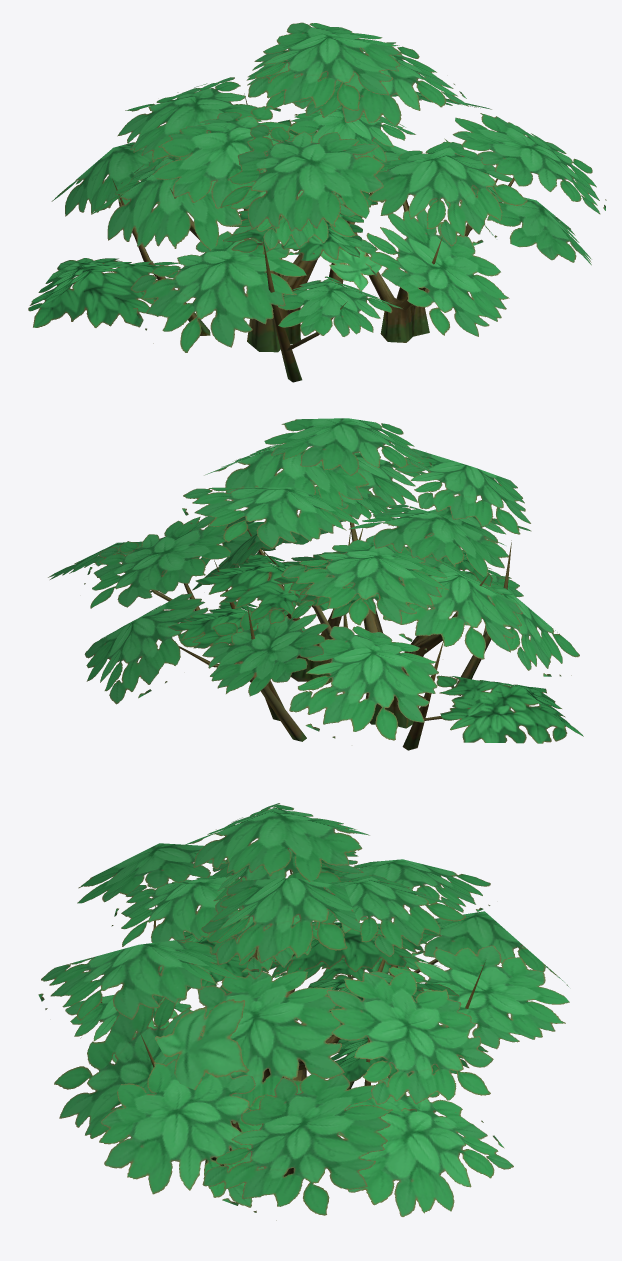
The model's file is map_shu21c.FBX.
3 renders of one model, top to bottom at view 1: azimuth 30°, elevation 25°; view 2: azimuth 150°, elevation 25°; view 3: azimuth 270°, elevation 25°, orthographic. The views are drawn at different scales.
Visible parts, largest first — view 1: map_shu21c; view 2: map_shu21c; view 3: map_shu21c.
Boxes of the visible parts, x1,y1,x2,y2 form: map_shu21c: [28, 22, 606, 382]; map_shu21c: [48, 418, 583, 750]; map_shu21c: [38, 803, 569, 1220].
Bounding box in the file's own units: 13.8 × 6.52 × 10.55.
